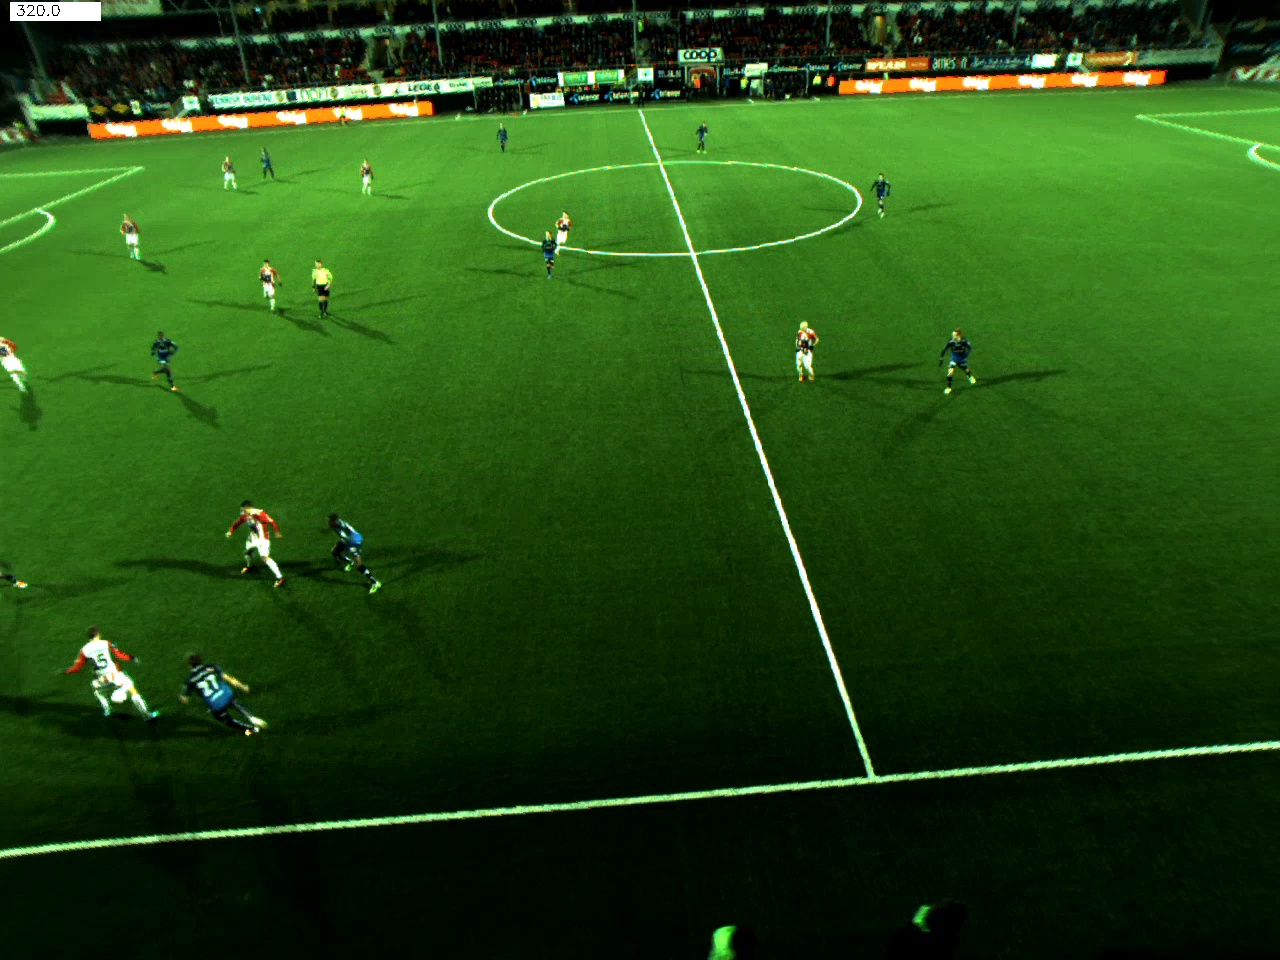blue: (178, 646, 288, 752), (317, 509, 388, 605), (939, 321, 991, 402), (855, 166, 906, 227), (144, 320, 177, 398), (681, 109, 714, 155), (531, 221, 558, 275), (488, 117, 516, 162), (260, 139, 280, 187)
red: (70, 628, 158, 735), (233, 494, 281, 578), (112, 210, 162, 275), (783, 314, 823, 392), (1, 344, 39, 403), (253, 256, 278, 313), (217, 150, 241, 194), (356, 156, 376, 207)
yellow: (306, 253, 337, 321)
